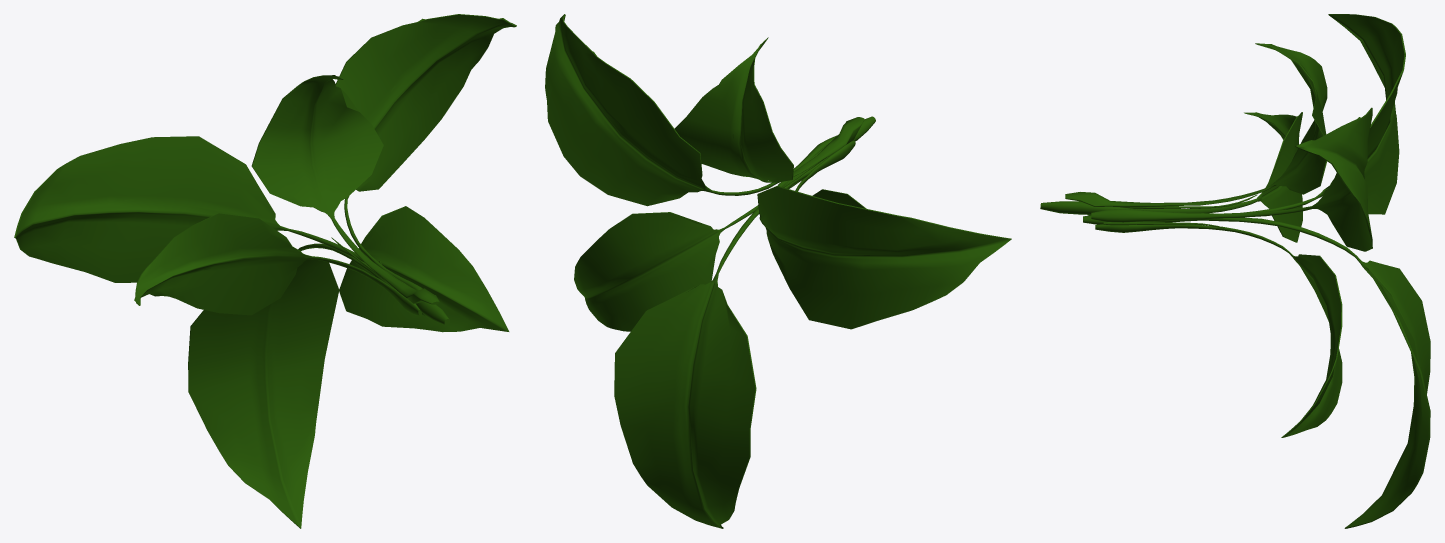
Rendered from Sapling.fbx.
3 renders of one model, left to right at view 1: azimuth 30°, elevation 25°; view 2: azimuth 150°, elevation 25°; view 3: azimuth 270°, elevation 25°, orthographic. The views are drawn at different scales.
Parts seen in each view (by area): view 1: Sapling; view 2: Sapling; view 3: Sapling.
Boxes of the visible parts, bbox=[...] form: Sapling: bbox=[14, 14, 516, 528]; Sapling: bbox=[545, 14, 1011, 528]; Sapling: bbox=[1040, 14, 1430, 528].
Bounding box in the file's own units: 46.1 × 43.72 × 31.91.
